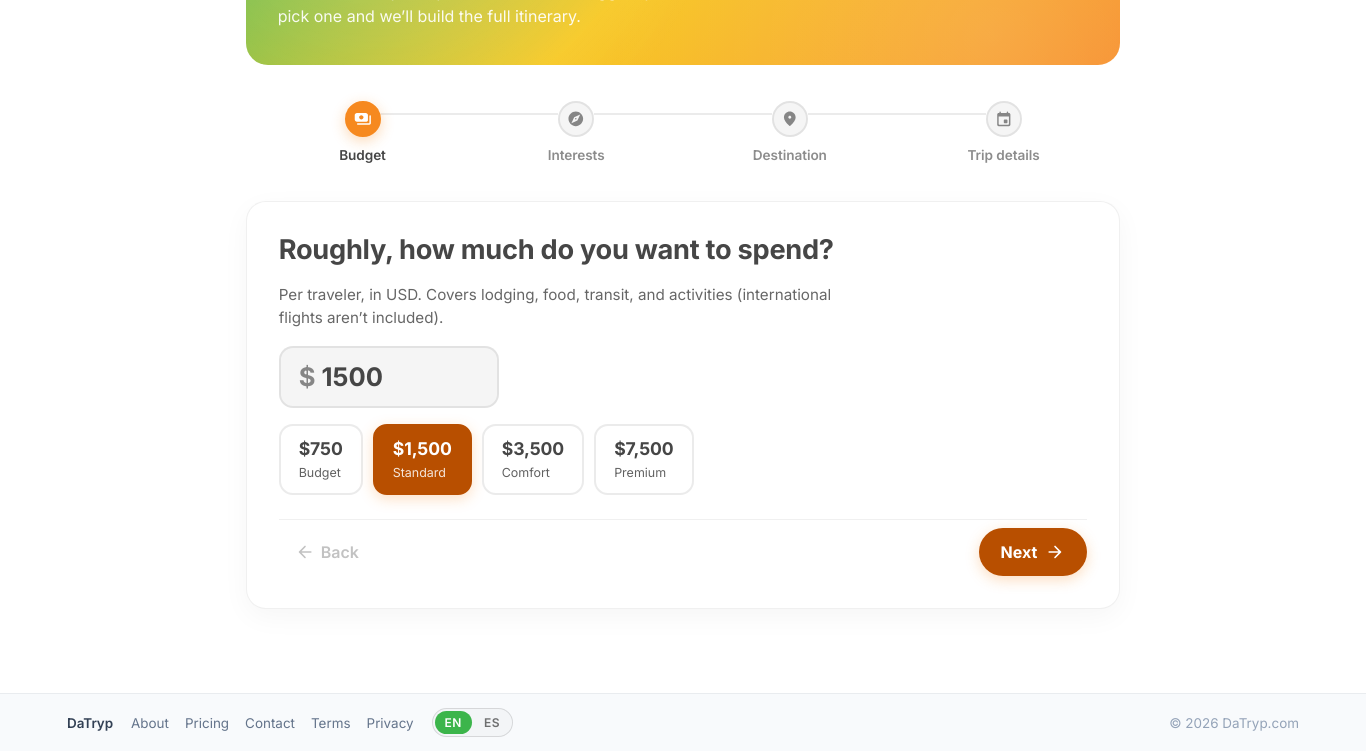
Scenario: AiTripBuilderPage — wizard › blocks Next with a below-minimum budget
(page scrolled)
Replace the text in the number field with "50" at (400, 377), box [321,358,479,396]
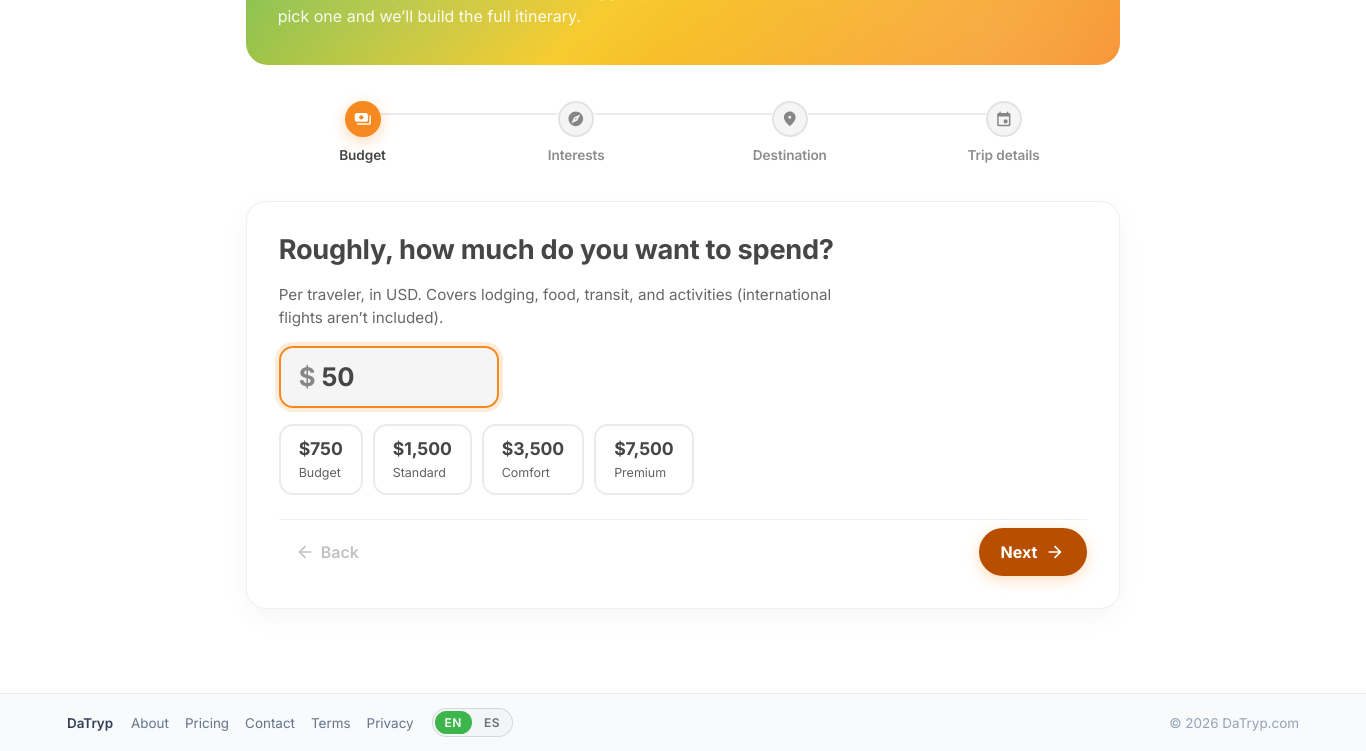
Click the button "Next" at (1033, 552), box [978,528,1087,576]
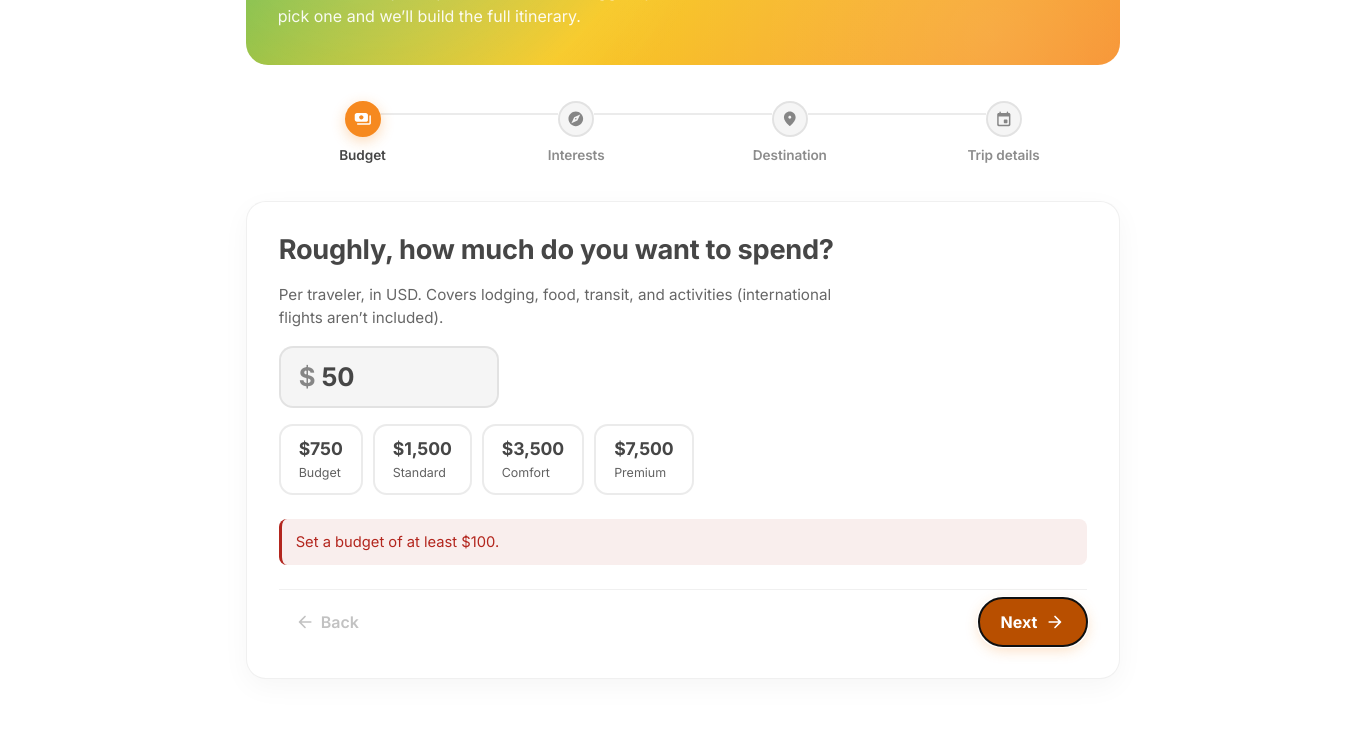
Expected: the message shows "at least $100", [296,533,499,551]
